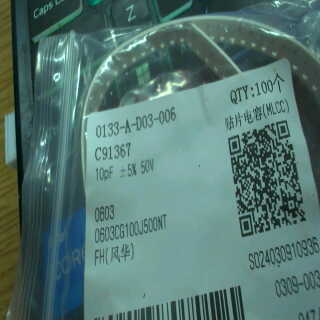10pF: (93, 164, 120, 182)
